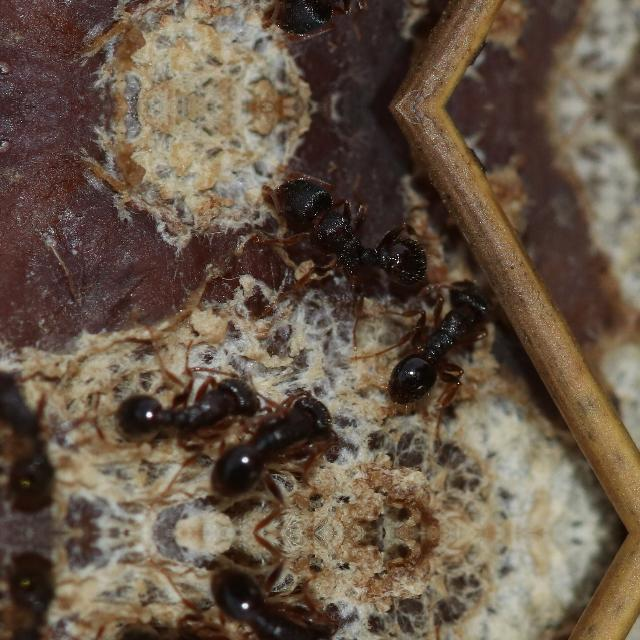Tetramorium: (266, 150, 442, 316), (354, 260, 518, 432), (203, 370, 345, 502), (112, 357, 262, 453), (0, 356, 78, 504), (203, 562, 345, 640), (266, 0, 440, 62), (0, 560, 78, 640), (112, 612, 262, 640)
